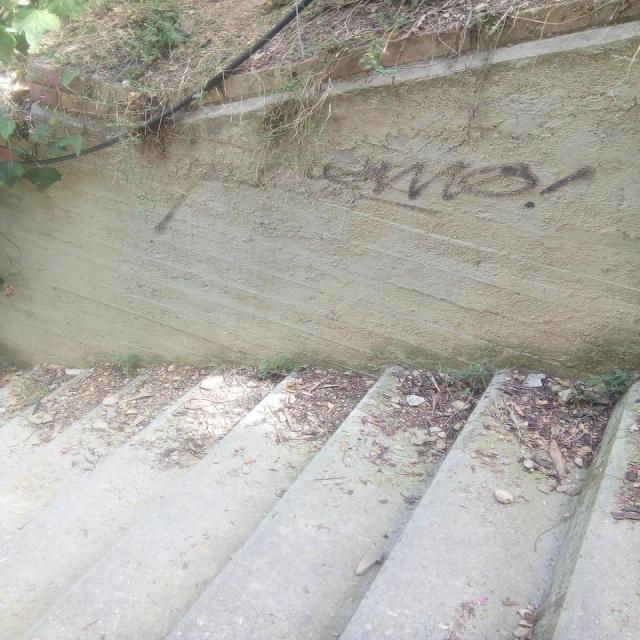nonspitting: (151, 158, 598, 235)
